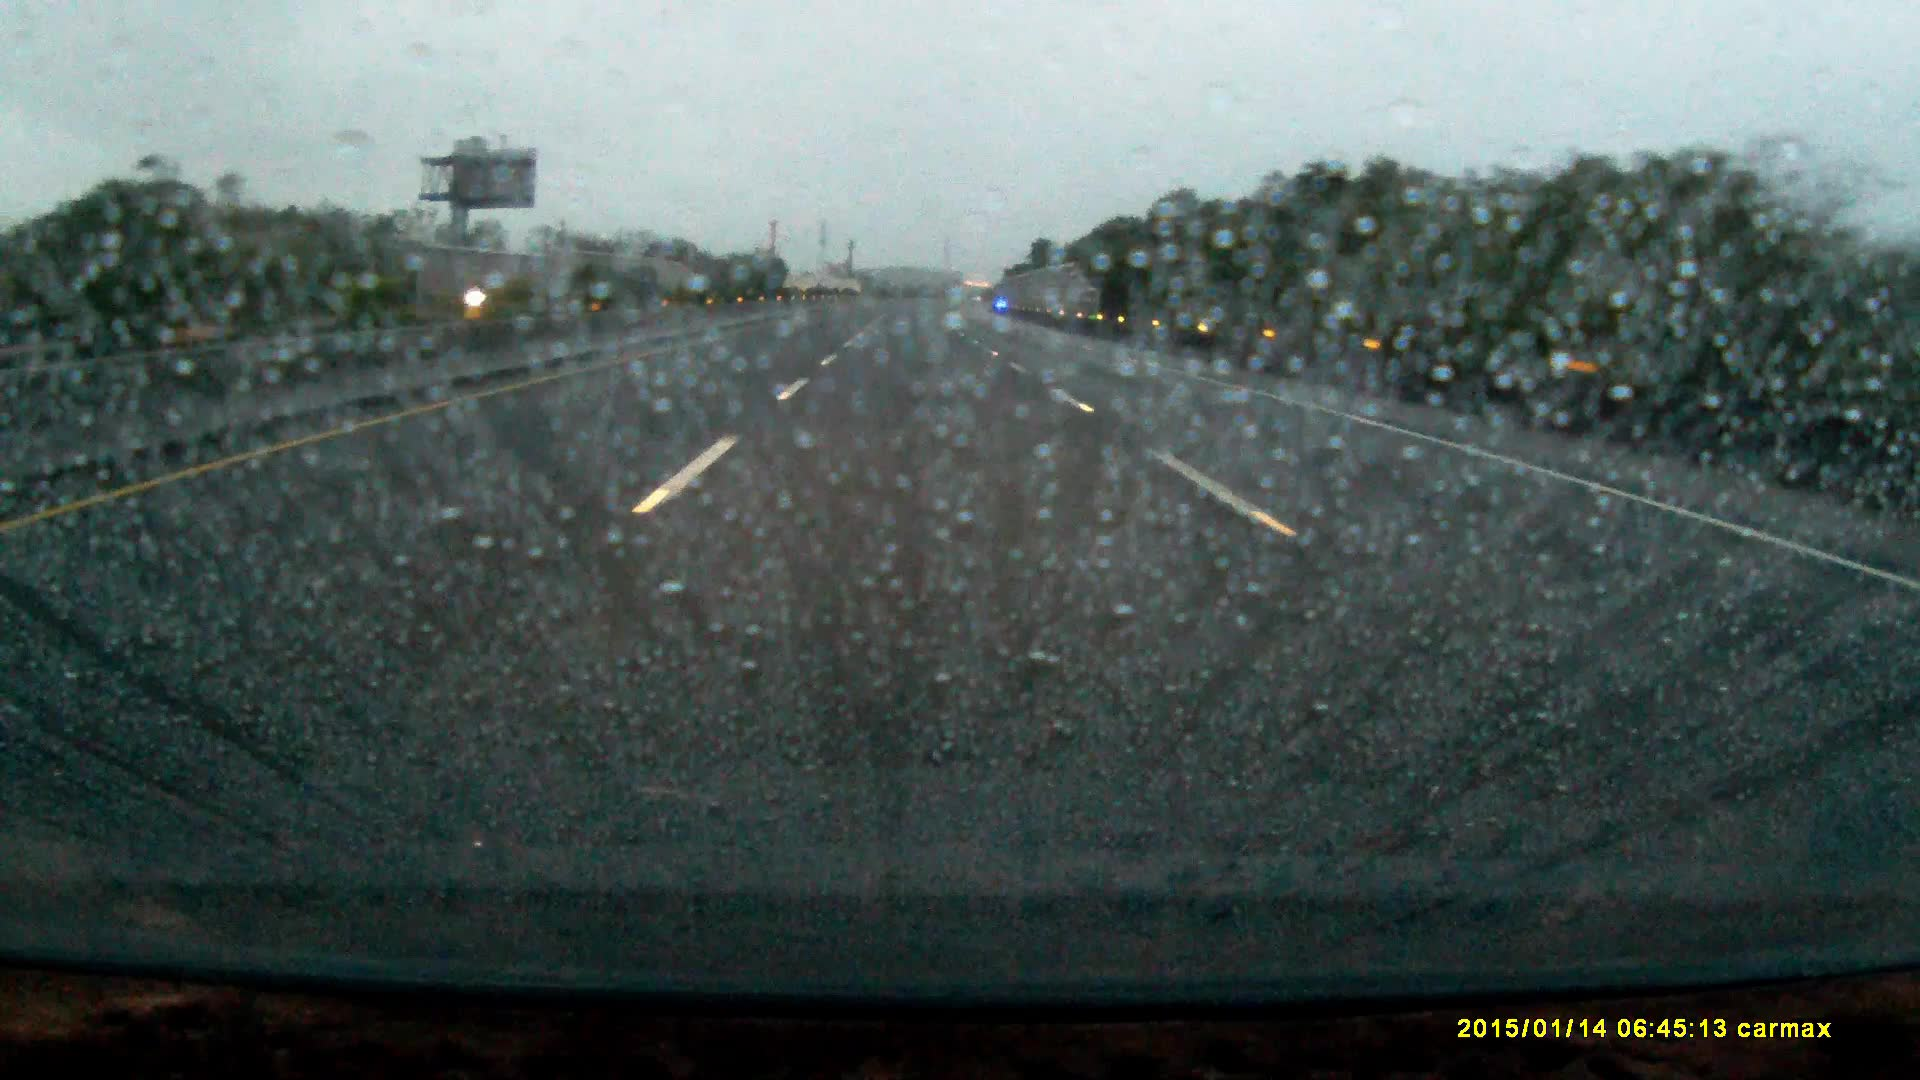vehicle: (447, 266, 553, 313)
